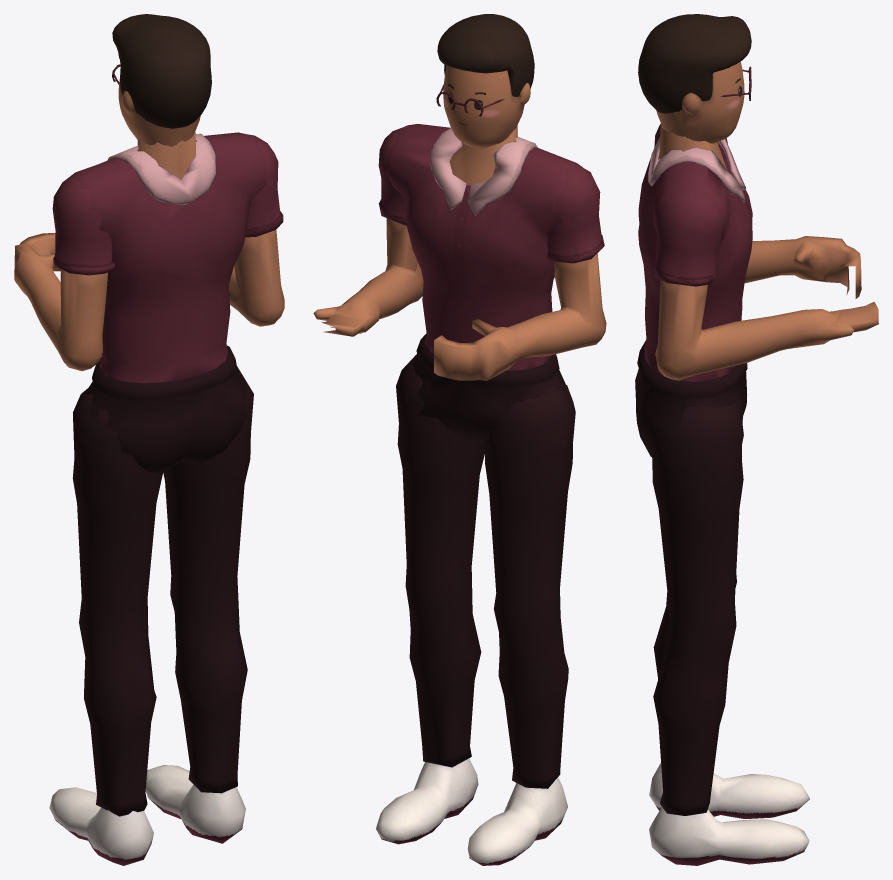
Rendered from npc_glasses.glb.
3 views of the same model, side by side, from view 1: azimuth 30°, elevation 25°; view 2: azimuth 150°, elevation 25°; view 3: azimuth 270°, elevation 25° (orthographic). The views are drawn at different scales.
Parts seen in each view (by area): view 1: Torso_Top, LegL_Pants, LegR_Pants, Torso_Hips, Head_Hair, ArmL_Skin, LegL_Shoe, LegR_Shoe, ArmL_Sleeve, ArmR_Skin, Torso_Trim, ArmR_Sleeve (+2 smaller); view 2: LegL_Pants, LegR_Pants, Torso_Top, ArmL_Skin, Torso_Hips, ArmR_Skin, Head_Hair, Head_Skin, LegR_Shoe, LegL_Shoe, ArmL_Sleeve, Torso_Trim (+2 smaller); view 3: LegR_Pants, ArmR_Skin, Torso_Top, Head_Hair, LegR_Shoe, ArmR_Sleeve, Torso_Hips, ArmL_Skin, LegL_Shoe, Head_Skin, Torso_Trim, Torso_Skin (+1 smaller).
Boxes of the visible parts, x1=… form: Torso_Top: x1=65, y1=132, x2=266, y2=383; LegL_Pants: x1=72, y1=388, x2=162, y2=816; LegR_Pants: x1=163, y1=366, x2=253, y2=793; Torso_Hips: x1=87, y1=345, x2=247, y2=473; Head_Hair: x1=112, y1=14, x2=211, y2=128; ArmL_Skin: x1=14, y1=232, x2=107, y2=371; LegL_Shoe: x1=49, y1=787, x2=153, y2=865; LegR_Shoe: x1=145, y1=765, x2=245, y2=843; ArmL_Sleeve: x1=52, y1=175, x2=115, y2=275; ArmR_Skin: x1=228, y1=230, x2=284, y2=326; Torso_Trim: x1=107, y1=133, x2=216, y2=205; ArmR_Sleeve: x1=245, y1=135, x2=283, y2=237; LegL_Pants: x1=484, y1=383, x2=575, y2=788; LegR_Pants: x1=396, y1=355, x2=484, y2=767; Torso_Top: x1=383, y1=124, x2=582, y2=370; ArmL_Skin: x1=434, y1=253, x2=606, y2=380; Torso_Hips: x1=412, y1=333, x2=568, y2=443; ArmR_Skin: x1=313, y1=218, x2=423, y2=336; Head_Hair: x1=437, y1=14, x2=534, y2=96; Head_Skin: x1=443, y1=65, x2=530, y2=148; LegR_Shoe: x1=376, y1=758, x2=478, y2=844; LegL_Shoe: x1=467, y1=777, x2=567, y2=865; ArmL_Sleeve: x1=547, y1=166, x2=604, y2=263; Torso_Trim: x1=430, y1=128, x2=537, y2=215; LegR_Pants: x1=651, y1=403, x2=743, y2=815; ArmR_Skin: x1=655, y1=280, x2=878, y2=380; Torso_Top: x1=638, y1=124, x2=752, y2=381; Head_Hair: x1=638, y1=14, x2=751, y2=113; LegR_Shoe: x1=649, y1=806, x2=809, y2=865; ArmR_Sleeve: x1=655, y1=189, x2=723, y2=286; Torso_Hips: x1=635, y1=340, x2=747, y2=456; ArmL_Skin: x1=744, y1=236, x2=861, y2=298; LegL_Shoe: x1=649, y1=763, x2=809, y2=818; Head_Skin: x1=656, y1=61, x2=744, y2=143; Torso_Trim: x1=648, y1=137, x2=746, y2=202; Torso_Skin: x1=658, y1=123, x2=726, y2=169.
Size of the model in its own units: 0.5014 by 1.76 by 0.4767.
Materials: 5 (5 with a texture image).
